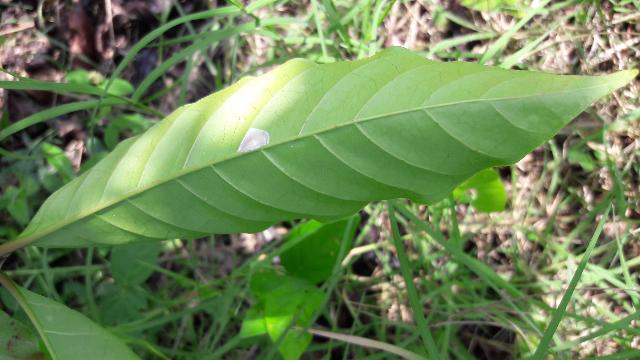healthy: (8, 45, 635, 248)
